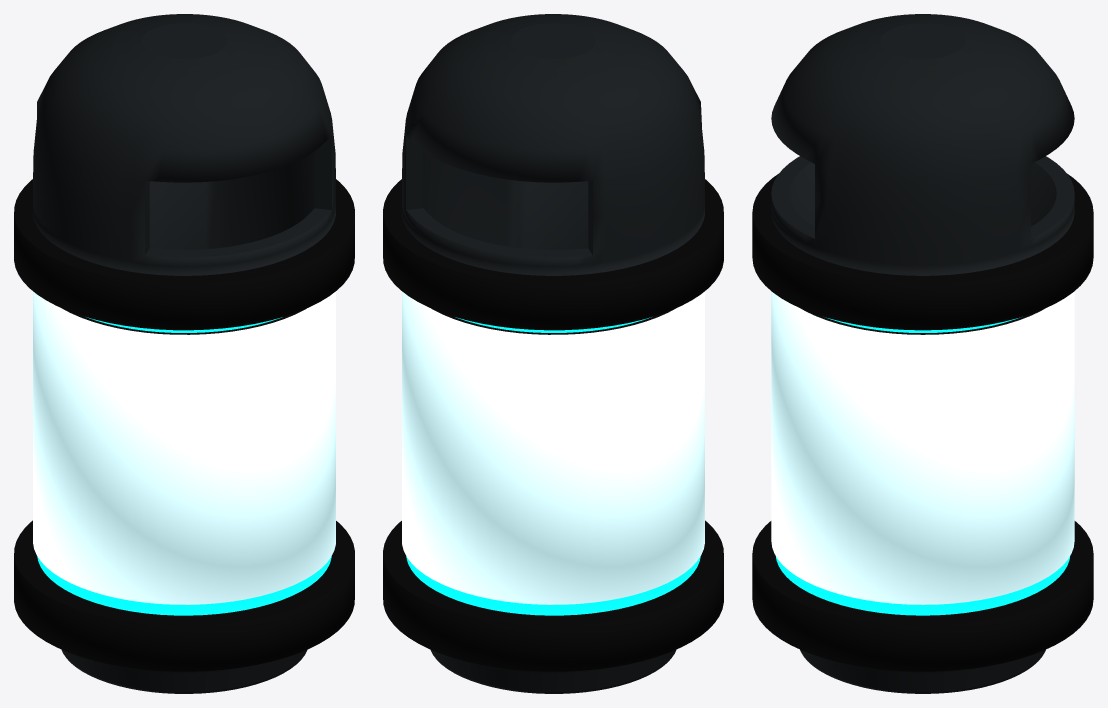
File: trashcan.fbx
3 views of the same model, side by side, from view 1: azimuth 30°, elevation 25°; view 2: azimuth 150°, elevation 25°; view 3: azimuth 270°, elevation 25° (orthographic).
Visible parts, largest first — view 1: Cylinder; view 2: Cylinder; view 3: Cylinder.
Part boxes in pixels (<box>): Cylinder: <box>14,14,354,693</box>; Cylinder: <box>383,14,723,693</box>; Cylinder: <box>752,14,1093,693</box>.
Size of the model in its own units: 133 by 259 by 133.
